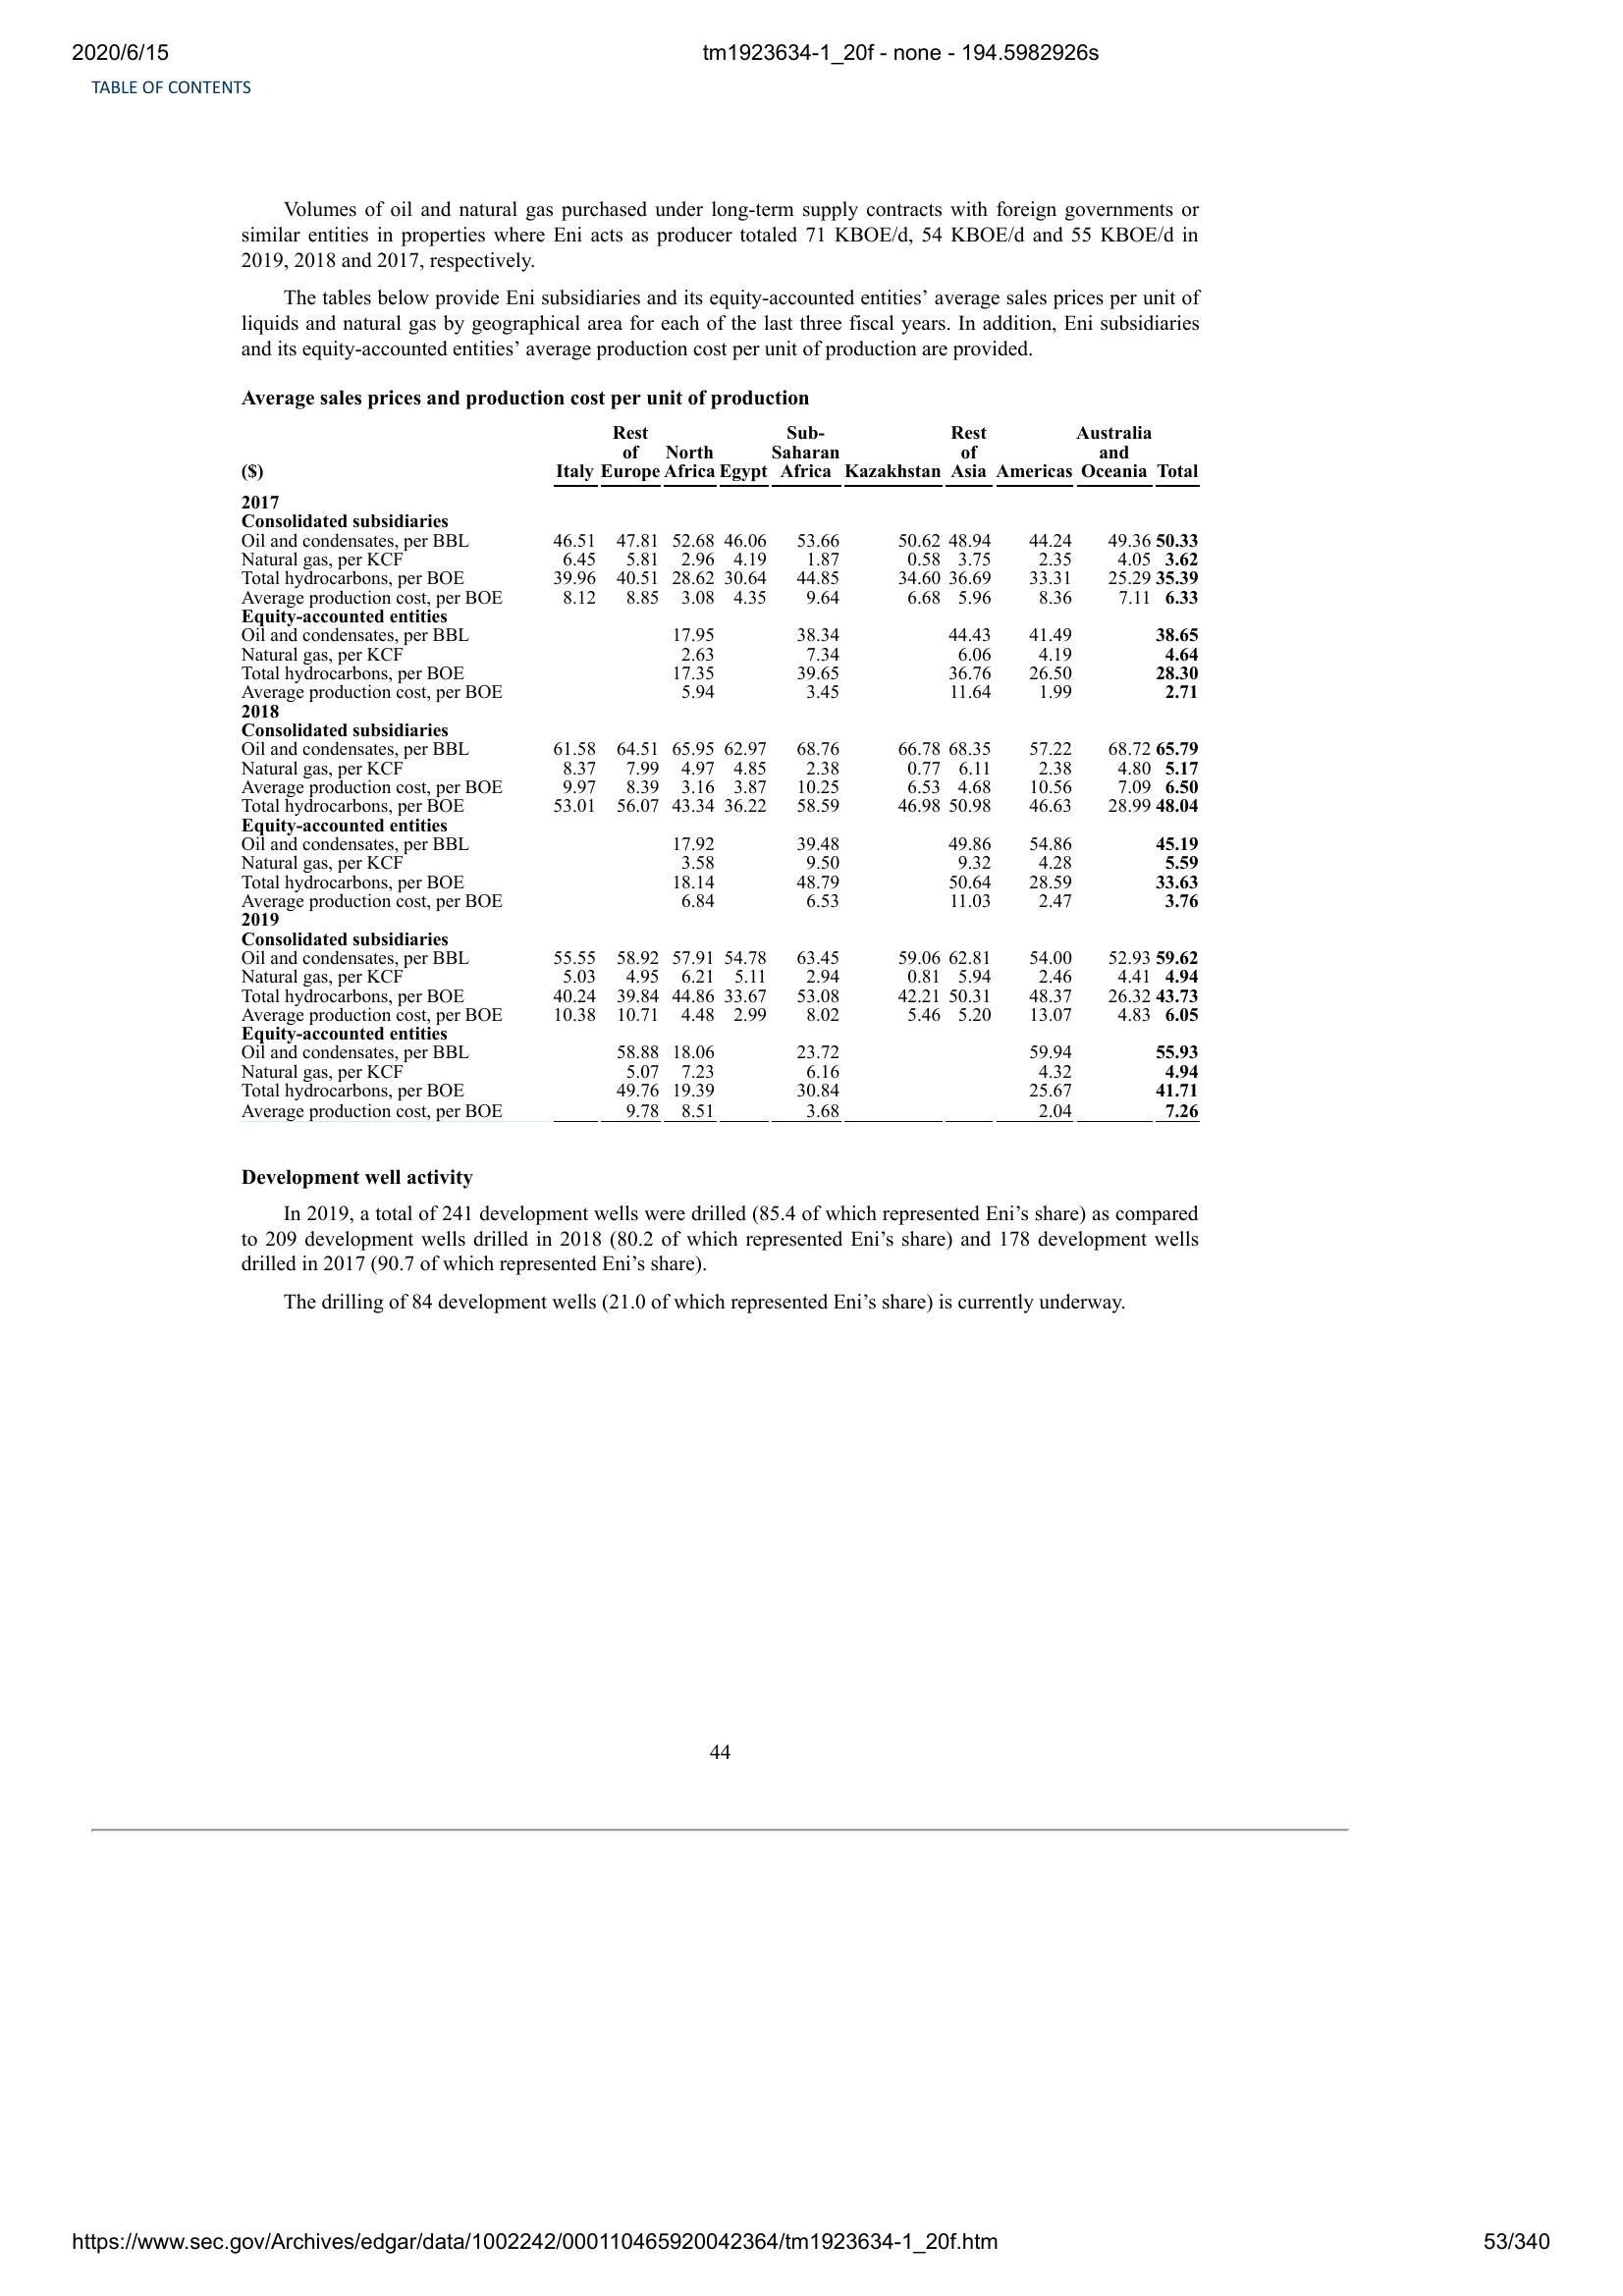table: (235, 413, 1214, 1129)
